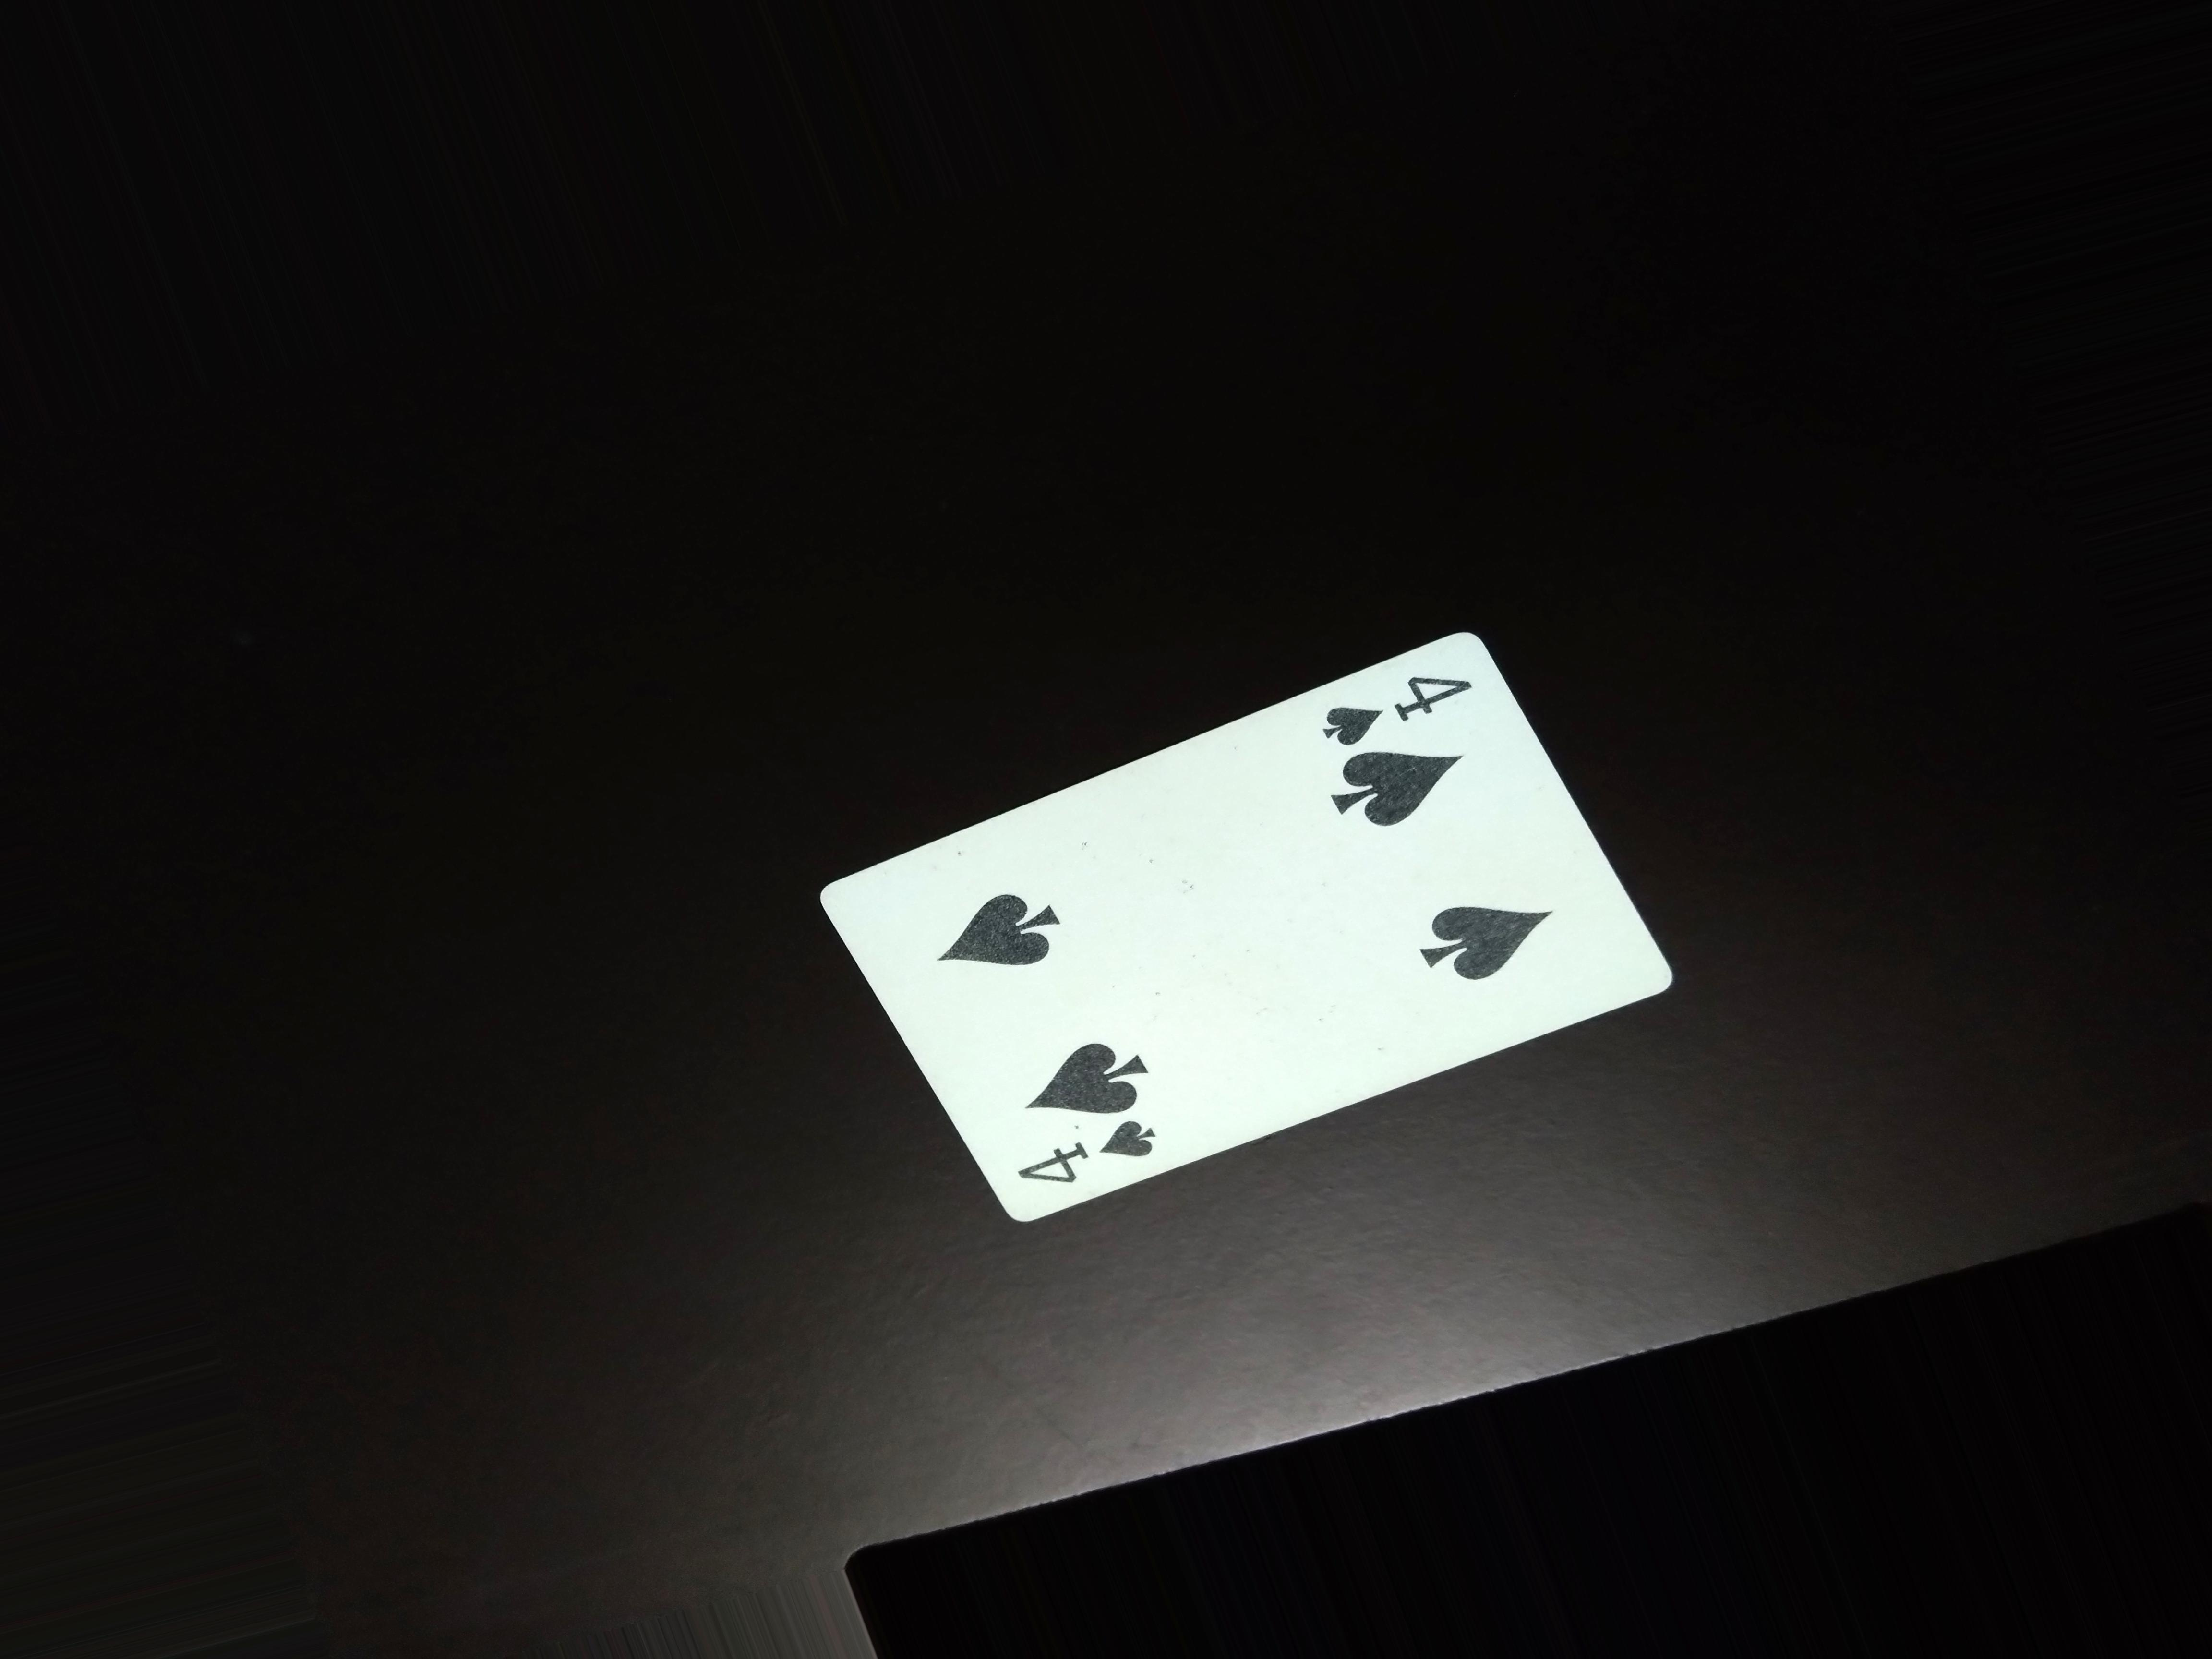4S: (1005, 1115, 1183, 1187)
